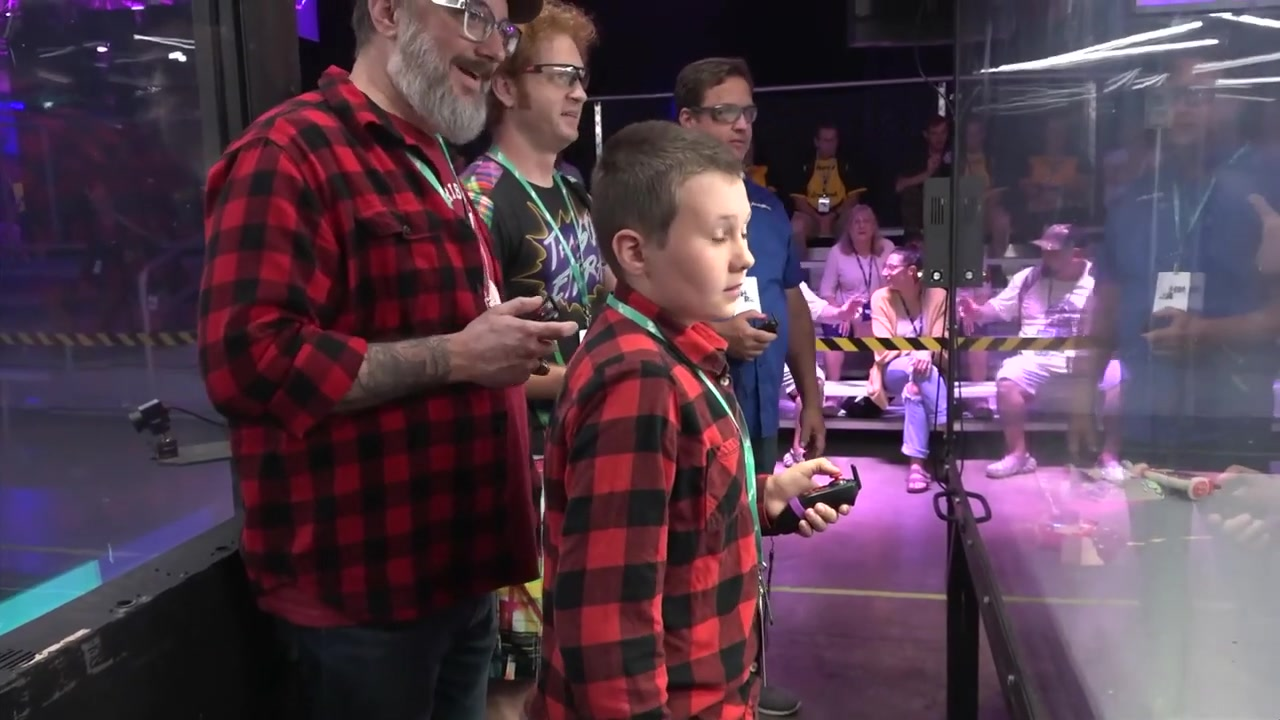minibot: (1122, 450, 1226, 502)
